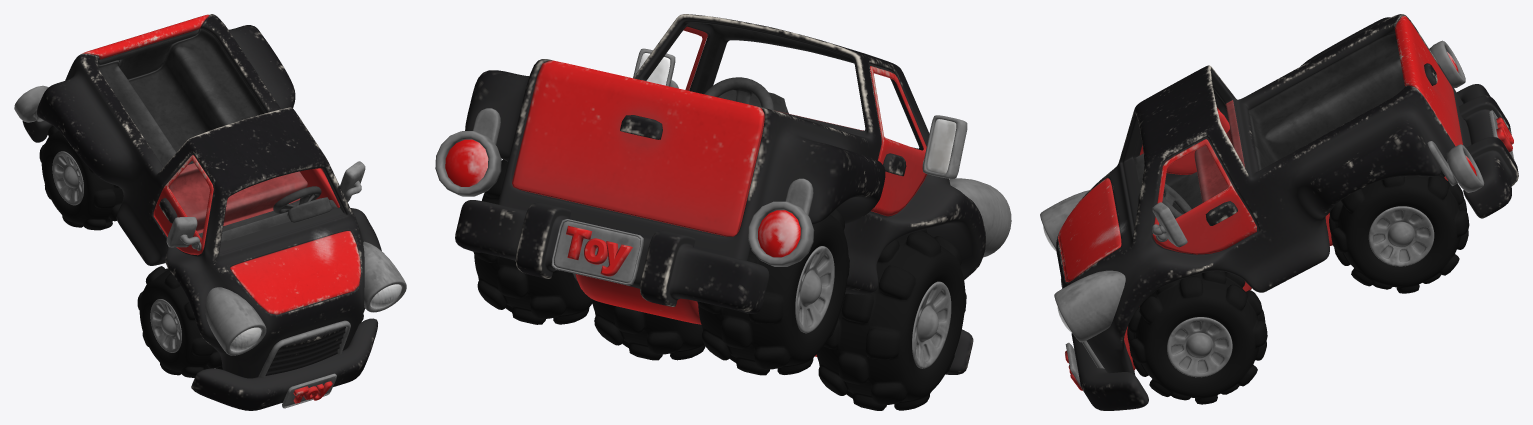
The model's file is truck.fbx.
The picture shows the model from 3 angles, left to right: view 1: azimuth 30°, elevation 25°; view 2: azimuth 150°, elevation 25°; view 3: azimuth 270°, elevation 25°; orthographic projection. The views are drawn at different scales.
Visible parts, largest first — view 1: hull, hull_0.001, hull.002; view 2: hull_0.001, hull, hull.003; view 3: hull, hull_0.001.
Part boxes in pixels (x1,y1,x2,y2): hull: (14, 14, 381, 408); hull_0.001: (22, 14, 406, 410); hull.002: (230, 284, 401, 351); hull_0.001: (455, 54, 985, 410); hull: (435, 14, 1011, 368); hull.003: (445, 139, 800, 257); hull: (1040, 32, 1514, 390); hull_0.001: (1054, 14, 1518, 410).
Bounding box in the file's own units: 0.0195 × 0.0299 × 0.0224.
